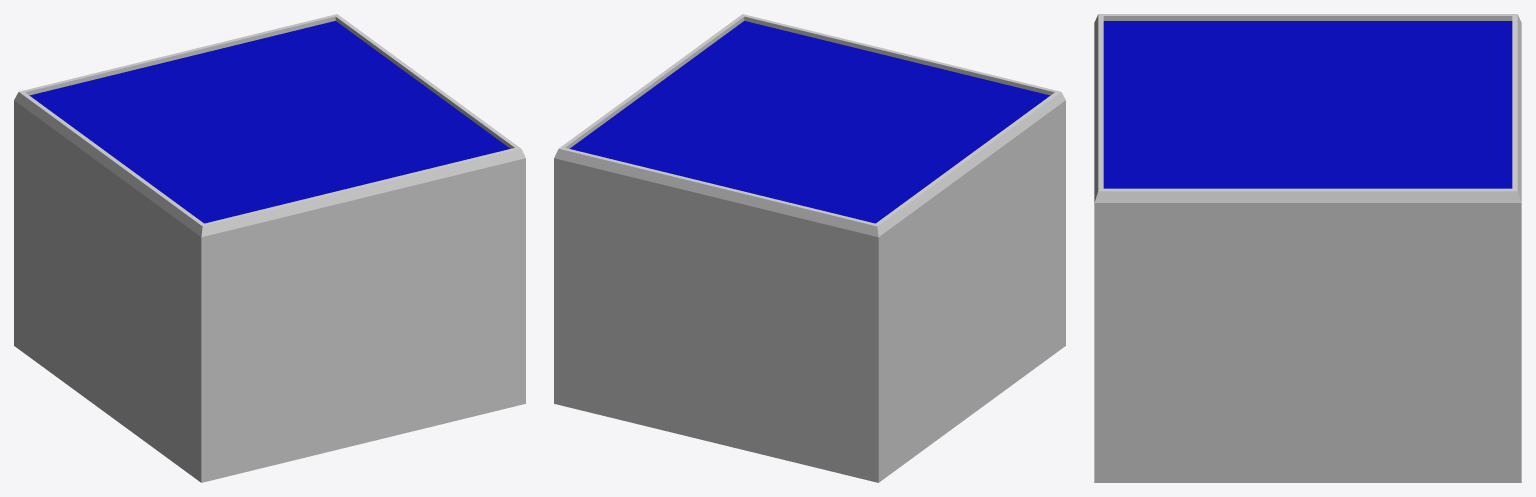
The model's file is White-Table.fbx.
The picture shows the model from 3 angles, left to right: view 1: azimuth 30°, elevation 25°; view 2: azimuth 150°, elevation 25°; view 3: azimuth 270°, elevation 25°; orthographic projection. The views are drawn at different scales.
Parts seen in each view (by area): view 1: White_Table; view 2: White_Table; view 3: White_Table.
Part boxes in pixels (<box>): White_Table: <box>14,14,525,482</box>; White_Table: <box>554,14,1065,482</box>; White_Table: <box>1094,14,1521,482</box>.
Bounding box in the file's own units: 80 × 60 × 80.
